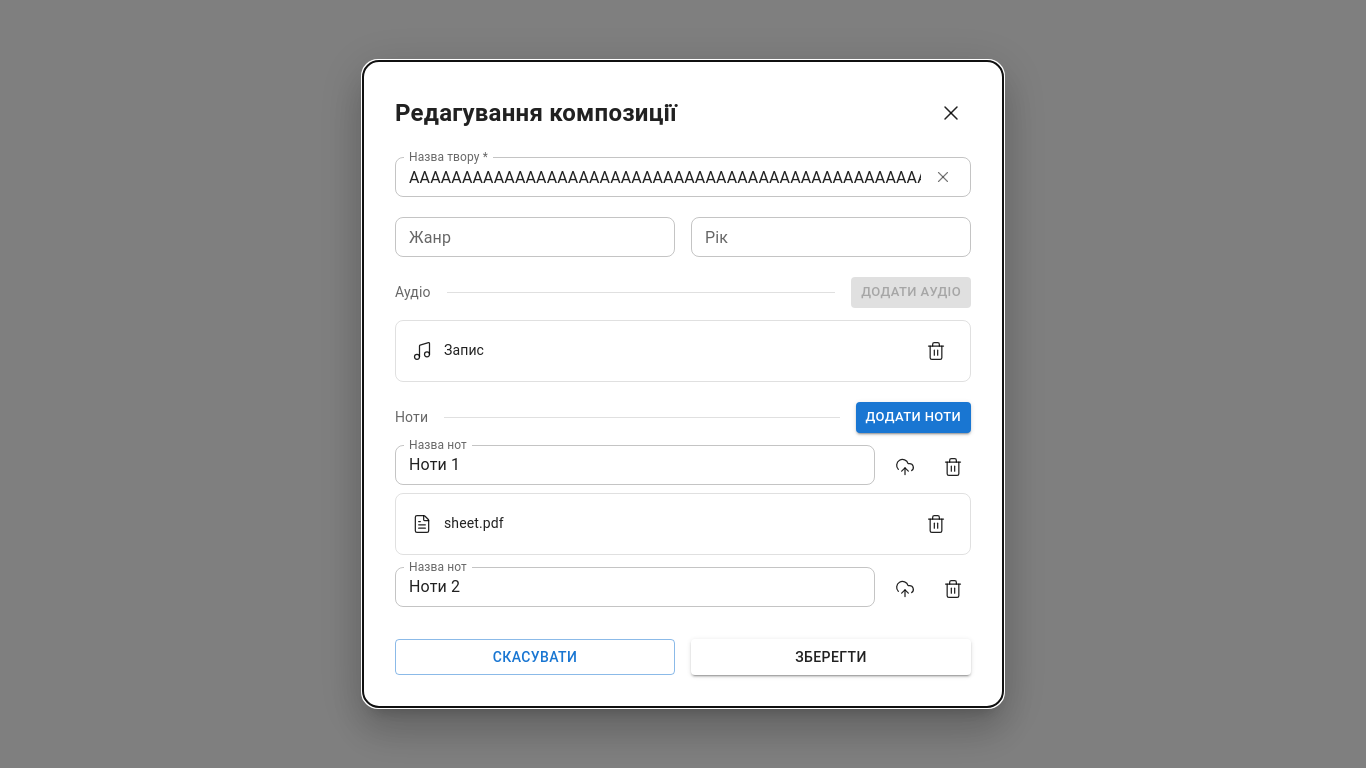
Scenario: CompositionModal › rejects a 251-character title supplied in the initial value
What coordinates should you click on to do the following:
click the button "Зберегти"
I would click on:
 (831, 657)
Its box is [691,638,971,675].
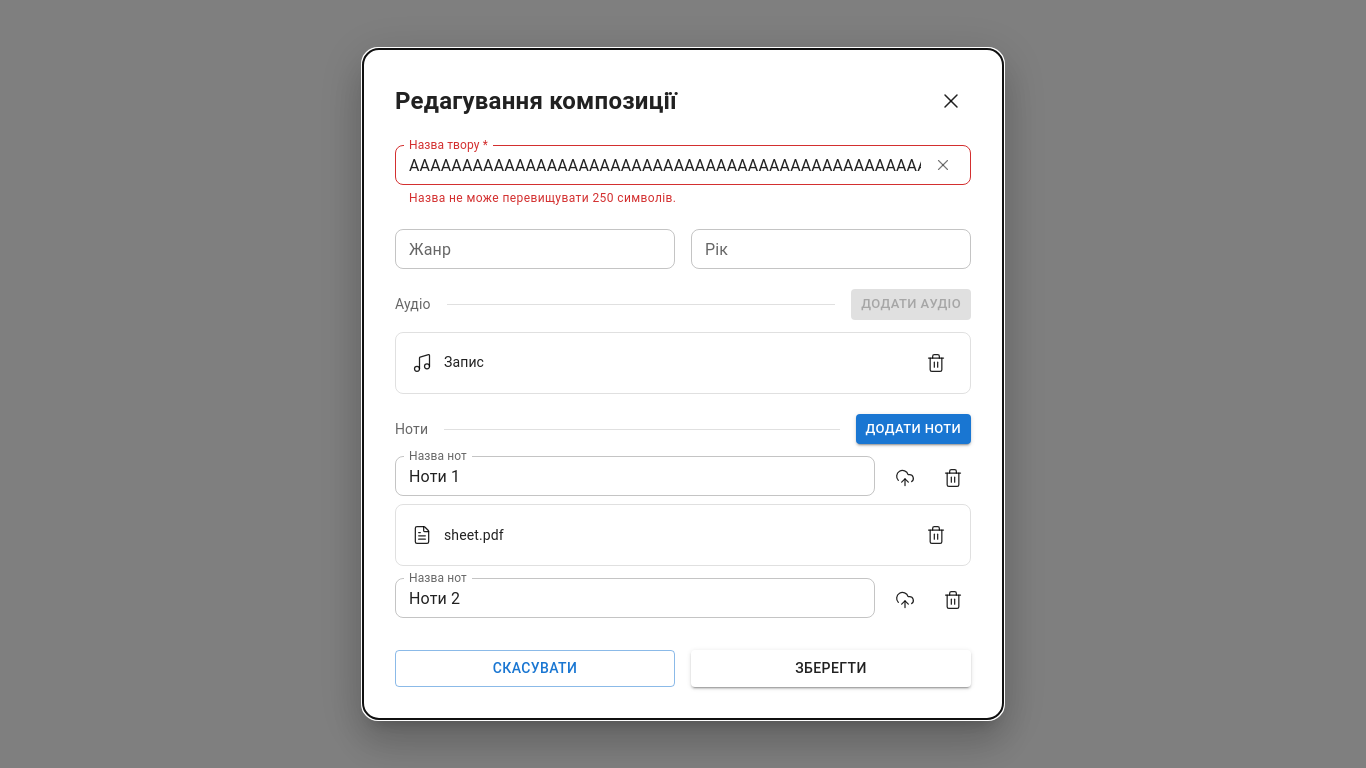
Check: the text "Назва не може перевищувати 250 символів." is shown, box [409,191,676,205]
